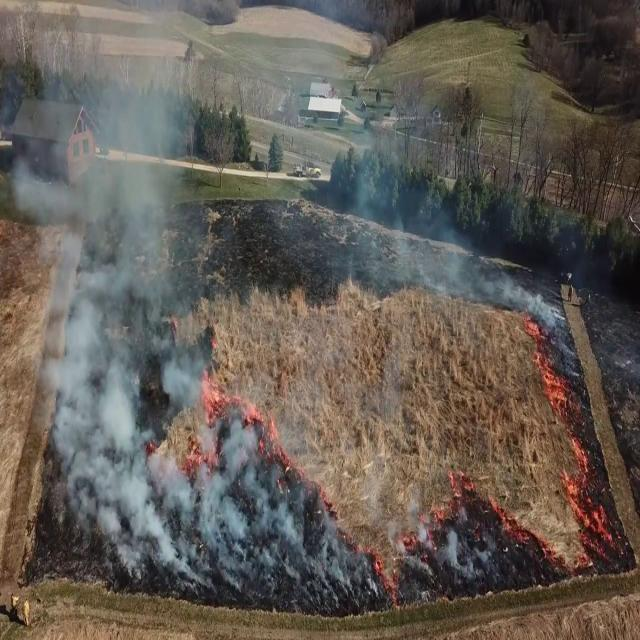Fire: (158, 364, 234, 470)
Smoke: (1, 4, 207, 546)
